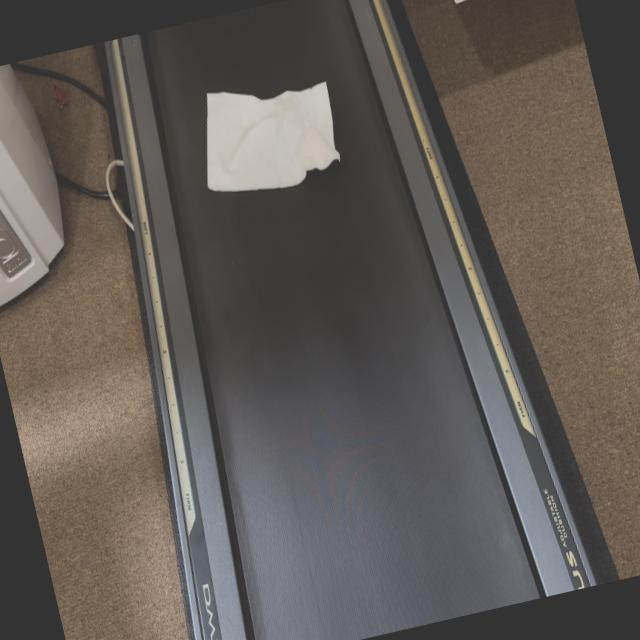Recycle: (185, 62, 348, 204)
